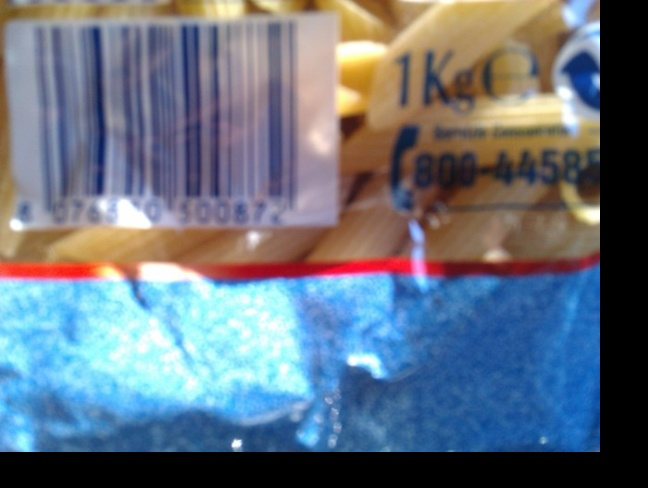Barkod: (8, 11, 337, 224)
